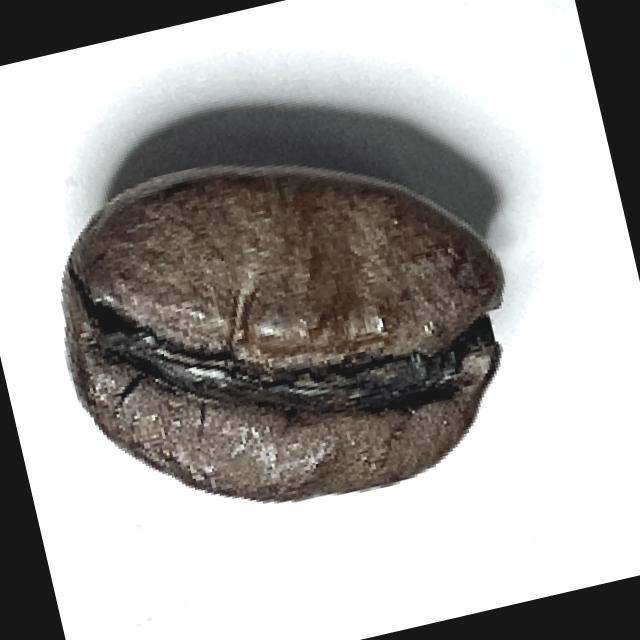bean: (25, 104, 546, 555)
